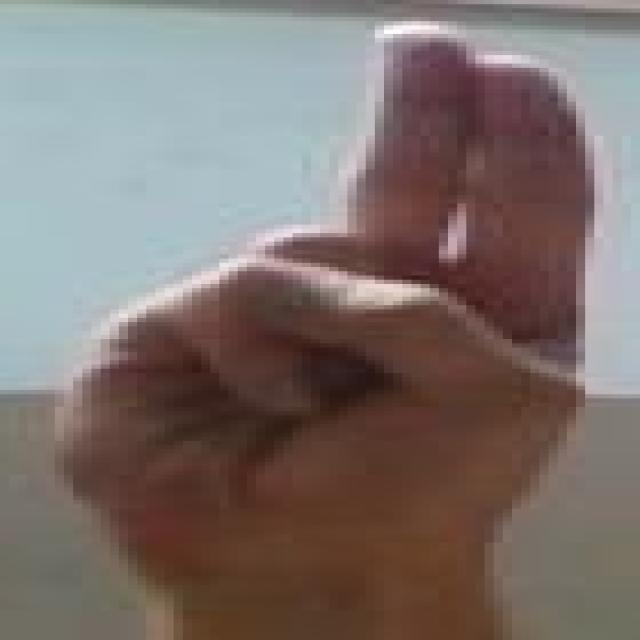U: (15, 9, 625, 606)
